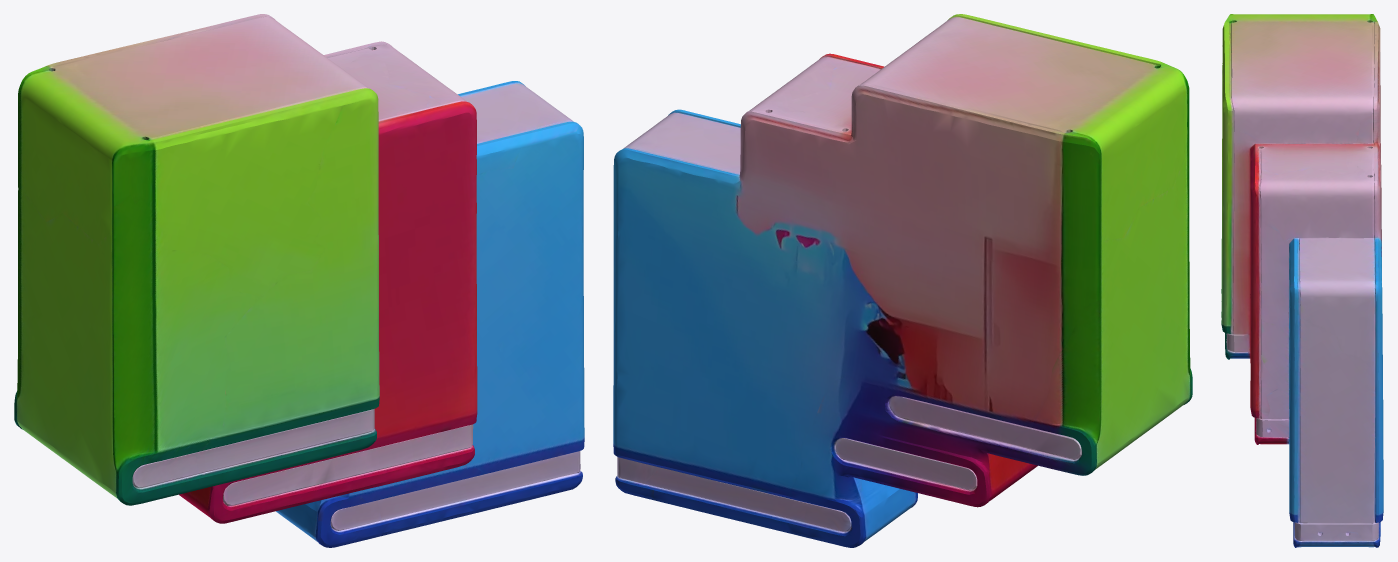
File: books.glb
3 renders of one model, left to right at view 1: azimuth 30°, elevation 25°; view 2: azimuth 150°, elevation 25°; view 3: azimuth 270°, elevation 25°, orthographic. The views are drawn at different scales.
Visible parts, largest first — view 1: model; view 2: model; view 3: model.
Part boxes in pixels (x1=…): model: x1=14, y1=14, x2=584, y2=547; model: x1=613, y1=14, x2=1192, y2=547; model: x1=1221, y1=14, x2=1383, y2=547.
Bounding box in the file's own units: 1 × 0.923 × 0.3765.
Materials: 1 (1 with a texture image).
